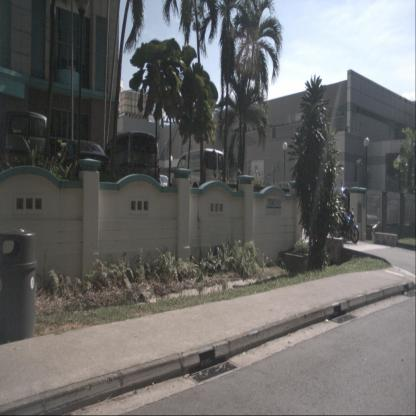vehicle-car: (101, 131, 160, 198), (0, 109, 50, 187), (55, 139, 111, 193), (166, 148, 226, 197), (148, 174, 170, 193)
vehicle-motorcycle: (330, 195, 359, 243)
